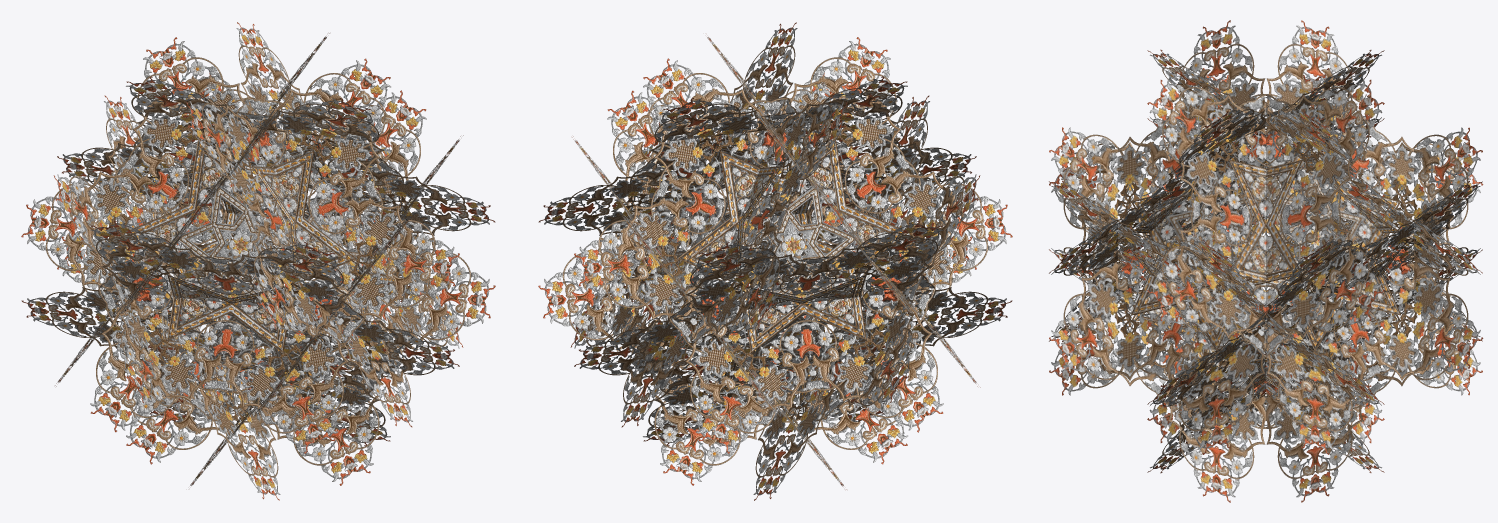
Rendered from GreatTruncatedCuboctahedron11.gltf.
3 renders of one model, left to right at view 1: azimuth 30°, elevation 25°; view 2: azimuth 150°, elevation 25°; view 3: azimuth 270°, elevation 25°, orthographic.
Parts seen in each view (by area): view 1: GreatTruncatedCuboctahedron; view 2: GreatTruncatedCuboctahedron; view 3: GreatTruncatedCuboctahedron.
Boxes of the visible parts, <box> form: GreatTruncatedCuboctahedron: <box>21,22,495,500</box>; GreatTruncatedCuboctahedron: <box>538,22,1012,500</box>; GreatTruncatedCuboctahedron: <box>1049,20,1483,502</box>.
Bounding box in the file's own units: 1.83 × 1.83 × 1.83.
Materials: 1 (1 with a texture image).
